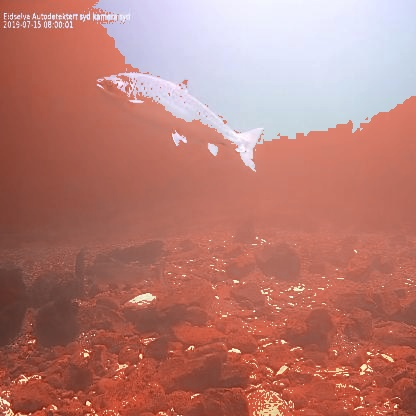salmon: (94, 68, 265, 177), (80, 256, 169, 291)
